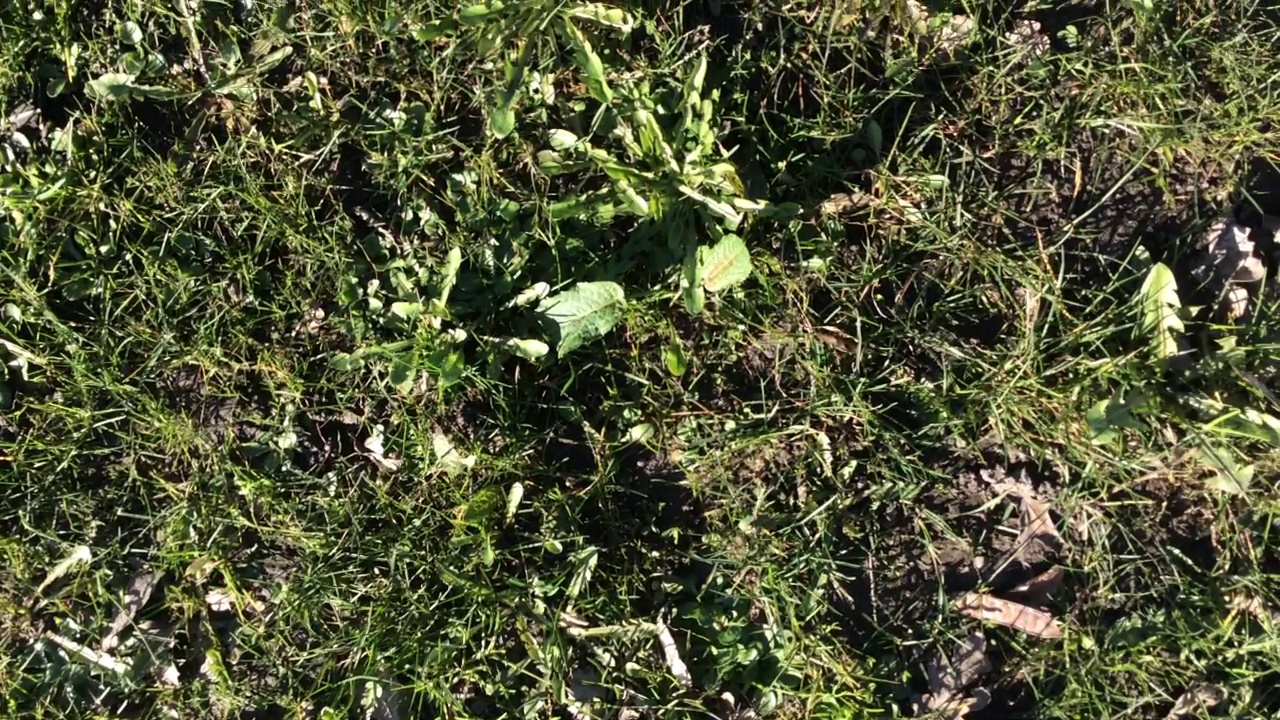rumex: (517, 281, 626, 352), (684, 235, 752, 294)
